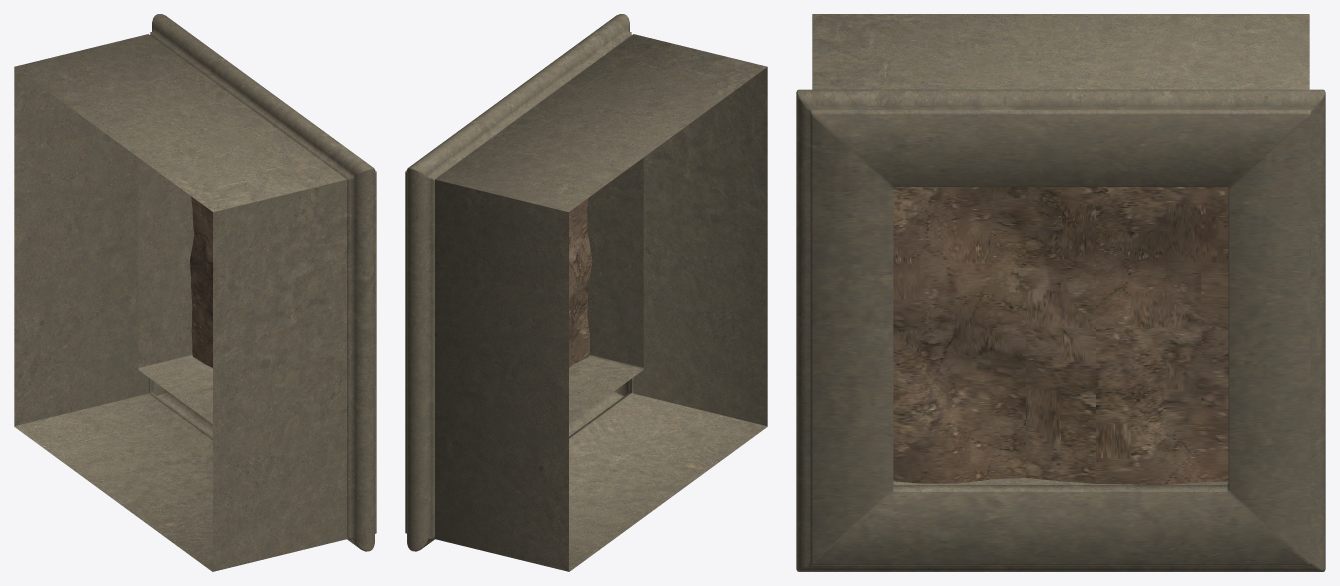
Rendered from cP_GardenIslands01_Small.dae.
The picture shows the model from 3 angles, left to right: view 1: azimuth 30°, elevation 25°; view 2: azimuth 150°, elevation 25°; view 3: azimuth 270°, elevation 25°; orthographic projection. The views are drawn at different scales.
Parts seen in each view (by area): view 1: cP_GardenIslands01_Small.001; view 2: cP_GardenIslands01_Small.001; view 3: cP_GardenIslands01_Small.001.
Boxes of the visible parts, left/top/right/bottom form: cP_GardenIslands01_Small.001: left=14, top=14, right=376, bottom=571; cP_GardenIslands01_Small.001: left=405, top=14, right=767, bottom=571; cP_GardenIslands01_Small.001: left=796, top=14, right=1325, bottom=571.
Size of the model in its own units: 0.948 by 2.12 by 2.12.
